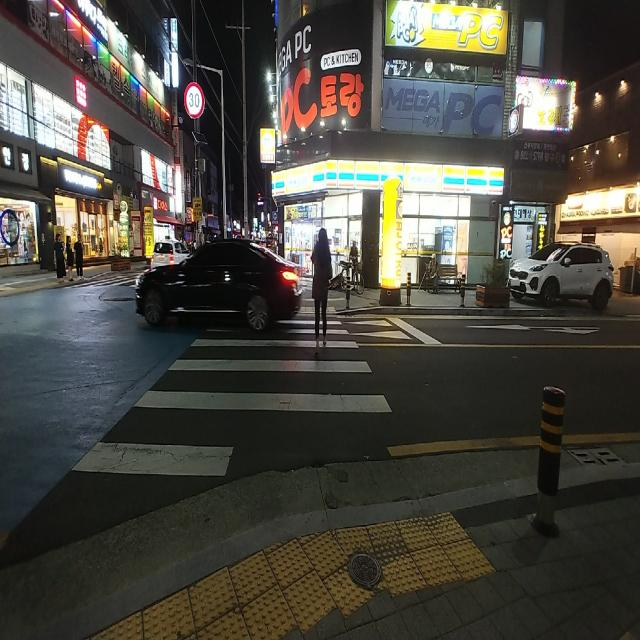횡단보도: (70, 321, 392, 479)
